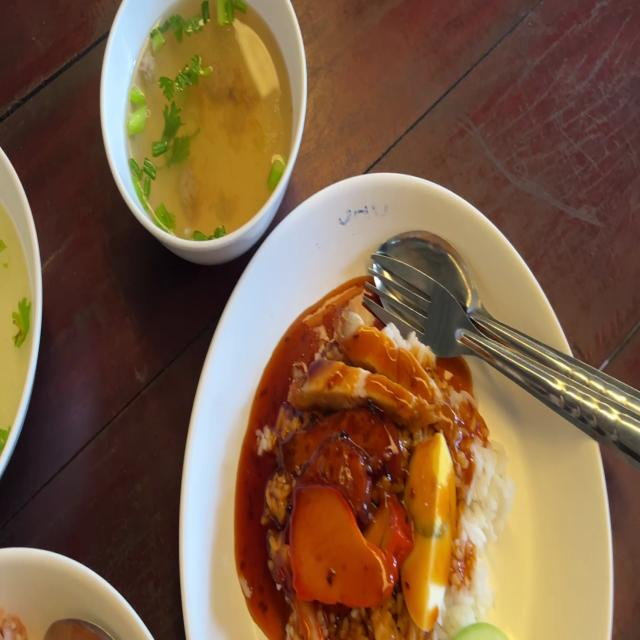01boiled_egg: (406, 428, 452, 628)
01chainese_sausage: (296, 408, 402, 497)
01crispy_pork: (295, 318, 439, 420)
01red_pork: (289, 482, 406, 604)
01red_pork_and_crispy_pork: (272, 307, 508, 640)
cucumber: (452, 614, 509, 640)
